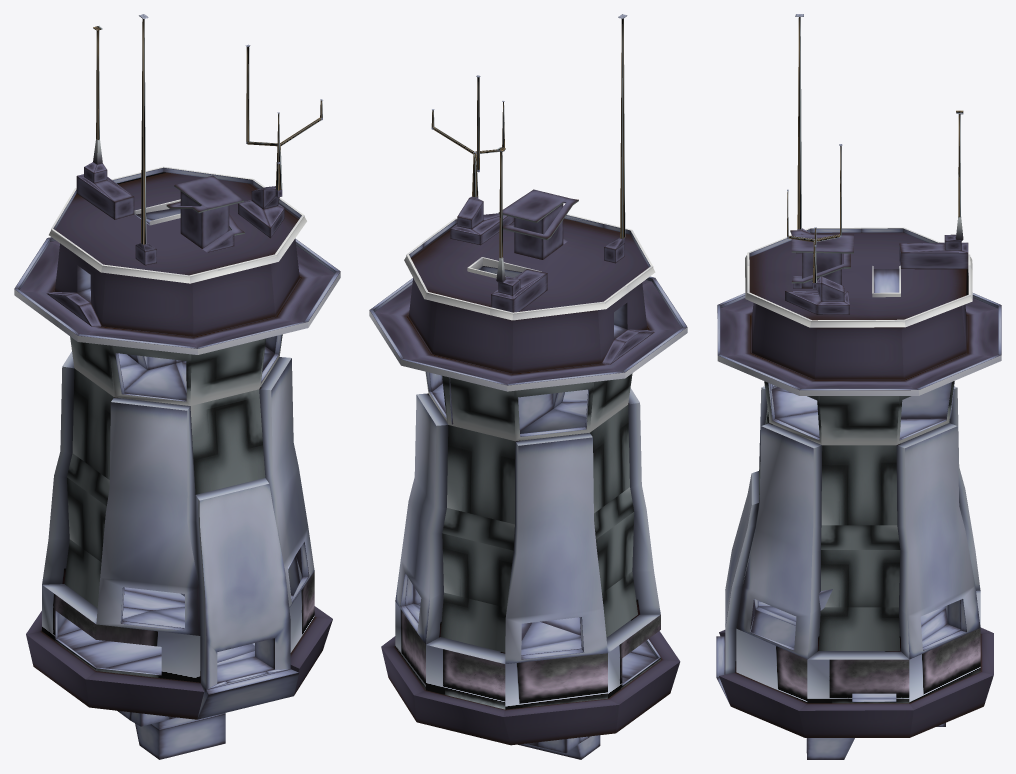
Rendered from octagonal_tower_100m_body.DAE.
3 renders of one model, left to right at view 1: azimuth 30°, elevation 25°; view 2: azimuth 150°, elevation 25°; view 3: azimuth 270°, elevation 25°, orthographic. The views are drawn at different scales.
Parts seen in each view (by area): view 1: TowerBodyVisual; view 2: TowerBodyVisual; view 3: TowerBodyVisual.
Boxes of the visible parts, x1=… form: TowerBodyVisual: x1=14, y1=14, x2=340, y2=759; TowerBodyVisual: x1=369, y1=14, x2=687, y2=759; TowerBodyVisual: x1=716, y1=14, x2=1001, y2=759.
Size of the model in its own units: 62.53 by 170 by 62.49.
